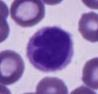L: (26, 26, 74, 72)
